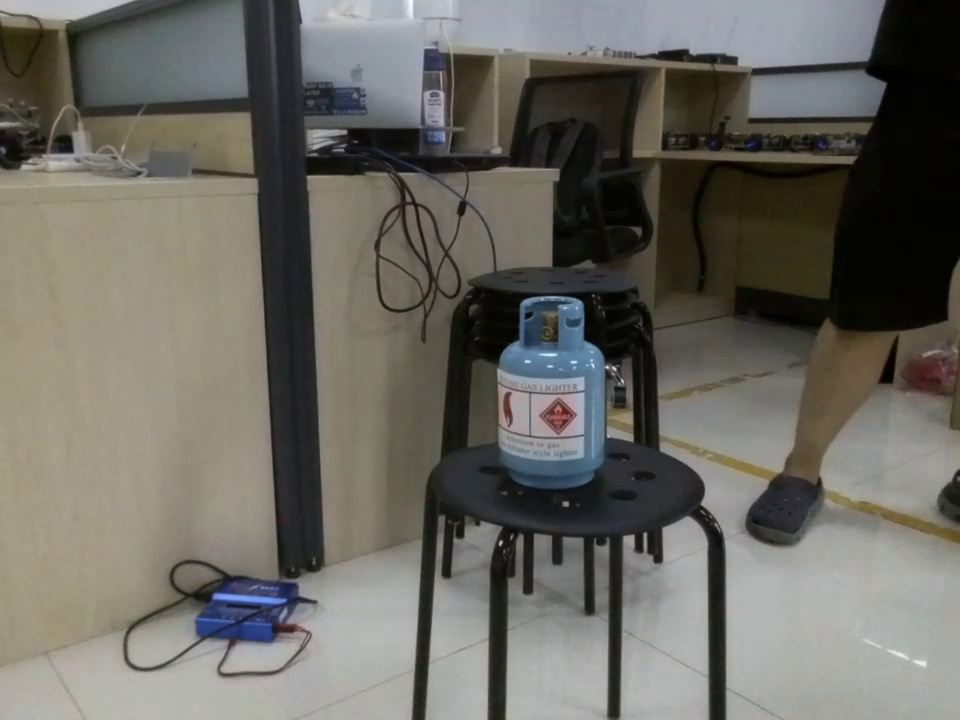gas tank: (495, 296, 612, 497)
